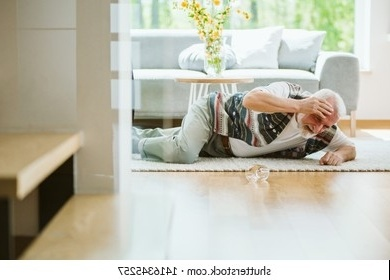fall: (134, 78, 363, 168)
